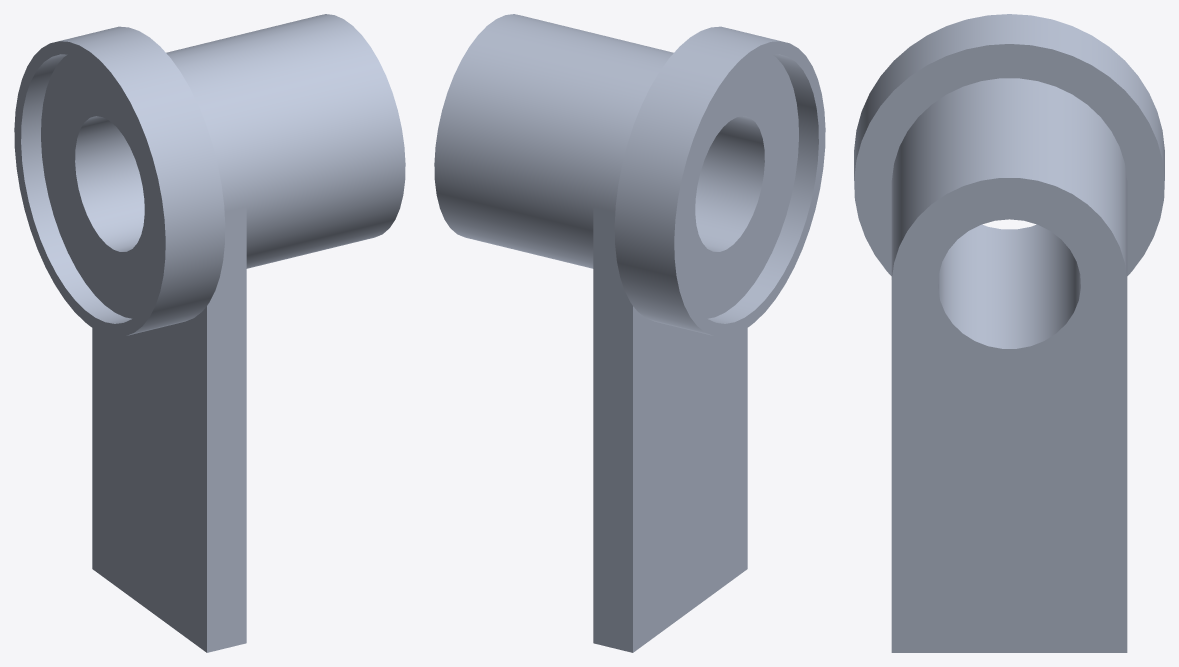
Rendered from Front_Holder.gltf.
3 views of the same model, side by side, from view 1: azimuth 30°, elevation 25°; view 2: azimuth 150°, elevation 25°; view 3: azimuth 270°, elevation 25° (orthographic). The views are drawn at different scales.
Parts seen in each view (by area): view 1: Front Holder; view 2: Front Holder; view 3: Front Holder.
Boxes of the visible parts, box(x1,y1,x2,y2) form: Front Holder: box(14, 14, 405, 652); Front Holder: box(434, 14, 825, 652); Front Holder: box(854, 14, 1164, 652).
Size of the model in its own units: 0.0413 by 0.0876 by 0.0419.
